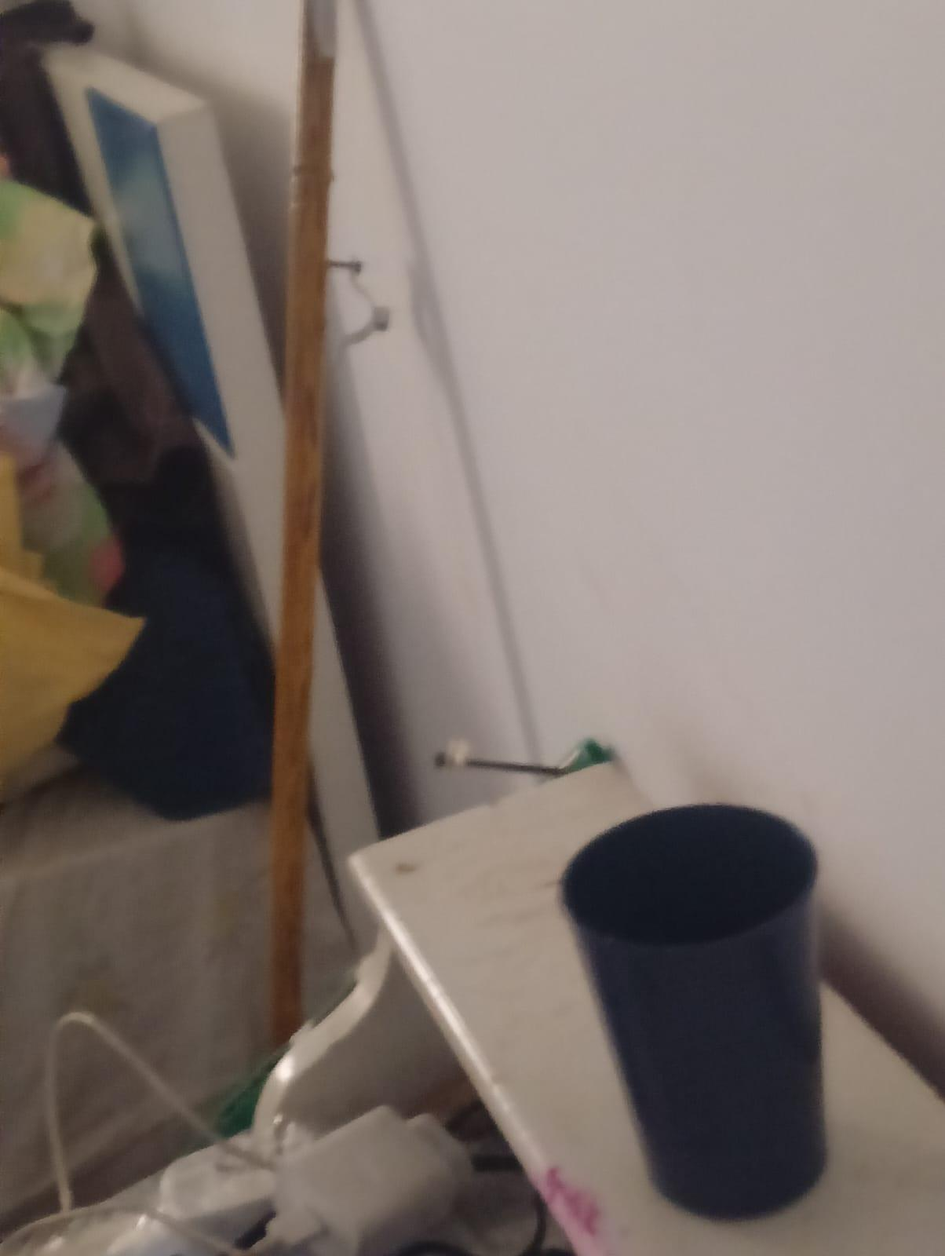cup: (560, 805, 825, 1218), (560, 800, 821, 940)
